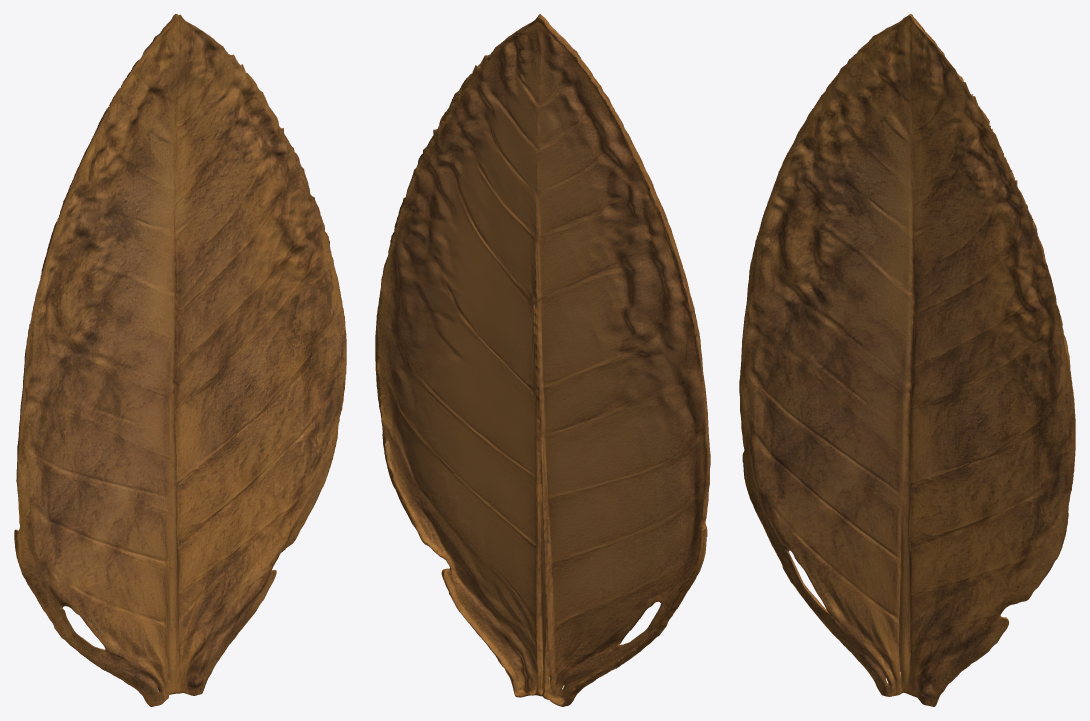
Rendered from daun-tembakau.glb.
3 views of the same model, side by side, from view 1: azimuth 30°, elevation 25°; view 2: azimuth 150°, elevation 25°; view 3: azimuth 330°, elevation 25° (orthographic).
Parts seen in each view (by area): view 1: tripo_node_2599899c-e8b6-4b39-bce4-f7b05ee50cd0; view 2: tripo_node_2599899c-e8b6-4b39-bce4-f7b05ee50cd0; view 3: tripo_node_2599899c-e8b6-4b39-bce4-f7b05ee50cd0.
Part boxes in pixels (bbox=[...]): tripo_node_2599899c-e8b6-4b39-bce4-f7b05ee50cd0: bbox=[14, 14, 346, 706]; tripo_node_2599899c-e8b6-4b39-bce4-f7b05ee50cd0: bbox=[375, 14, 710, 706]; tripo_node_2599899c-e8b6-4b39-bce4-f7b05ee50cd0: bbox=[739, 14, 1075, 706].
Bounding box in the file's own units: 0.1016 × 0.2 × 0.00618.
1 material, 1 textured.
